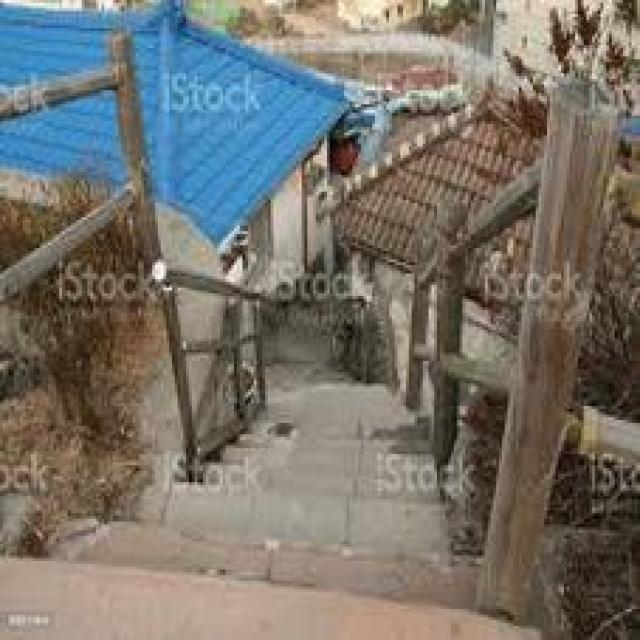stair: (90, 434, 437, 620)
